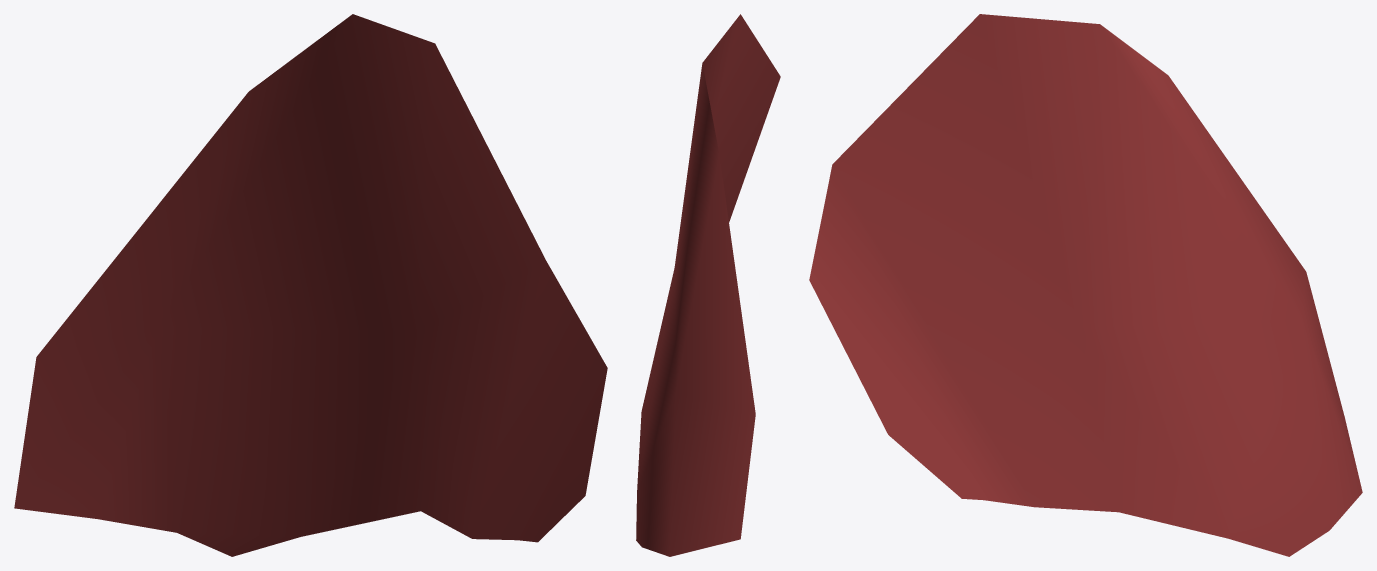
The model's file is rectus-posterior-major-capitis-muscle-er.glb.
The picture shows the model from 3 angles, left to right: view 1: azimuth 30°, elevation 25°; view 2: azimuth 150°, elevation 25°; view 3: azimuth 270°, elevation 25°; orthographic projection. The views are drawn at different scales.
Visible parts, largest first — view 1: Rectus posterior major capitis muscle.er; view 2: Rectus posterior major capitis muscle.er; view 3: Rectus posterior major capitis muscle.er.
Boxes of the visible parts, <box> form: Rectus posterior major capitis muscle.er: <box>14,14,607,556</box>; Rectus posterior major capitis muscle.er: <box>636,14,780,556</box>; Rectus posterior major capitis muscle.er: <box>809,14,1362,556</box>.
Size of the model in its own units: 0.00369 by 0.00729 by 0.00661.
